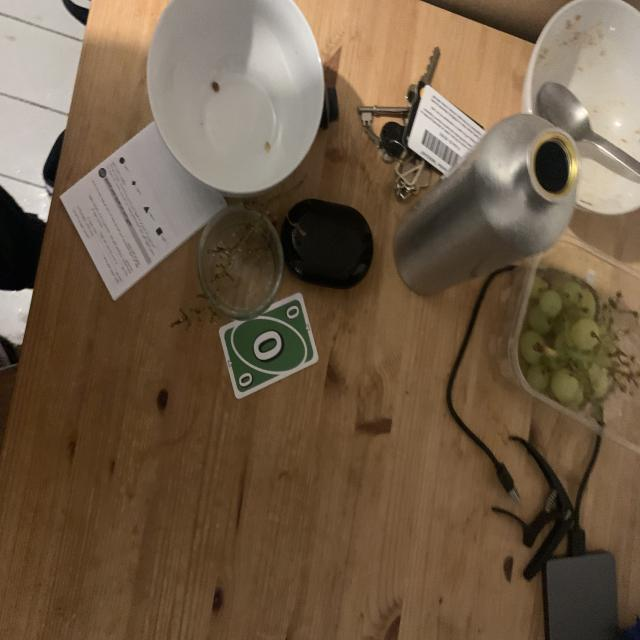lgreen-0: (282, 302, 300, 322)
